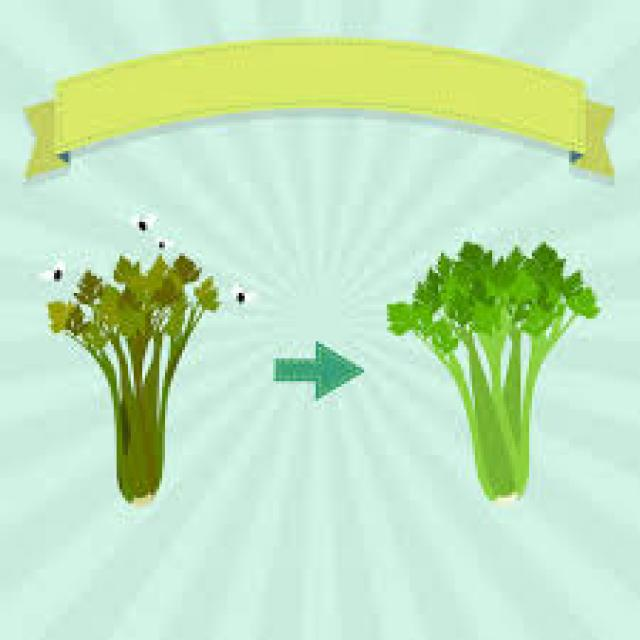organic waste: (384, 233, 597, 495), (43, 244, 216, 500), (384, 236, 600, 350), (46, 248, 216, 336)
